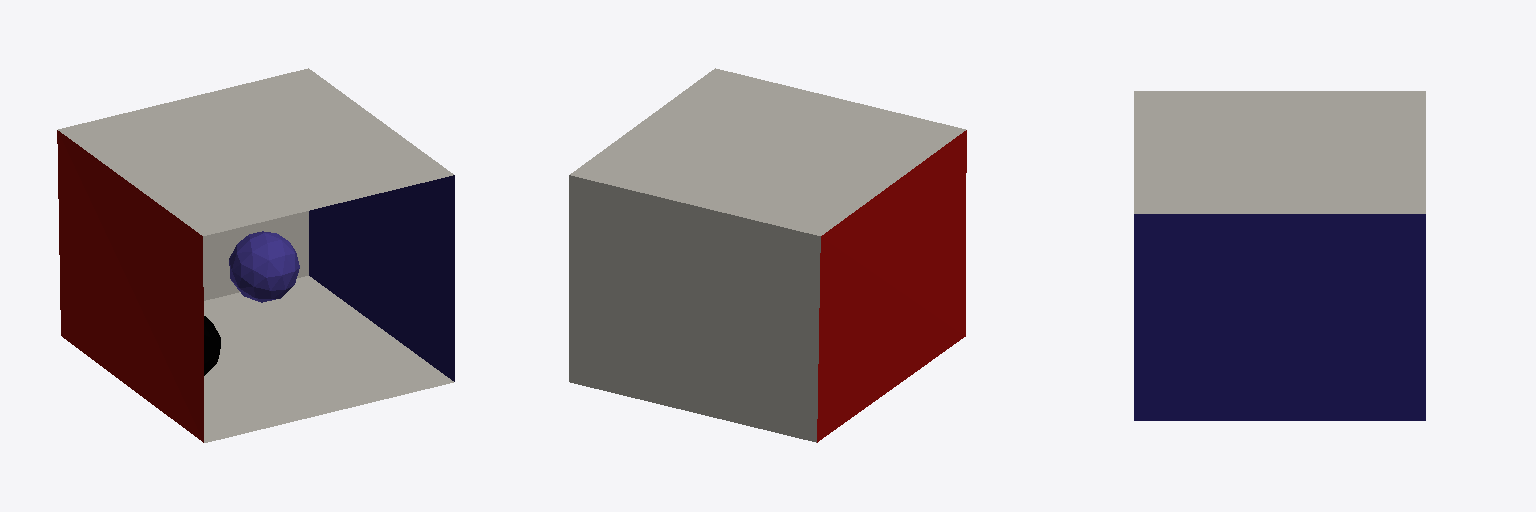
File: CornellBox-Sphere-456.obj
3 renders of one model, left to right at view 1: azimuth 30°, elevation 25°; view 2: azimuth 150°, elevation 25°; view 3: azimuth 270°, elevation 25°, orthographic.
Visible parts, largest first — view 1: ceiling, leftWall, floor, rightWall, leftSphere, backWall, rightSphere; view 2: backWall, ceiling, leftWall; view 3: rightWall, ceiling.
Boxes of the visible parts, x1,y1,x2,y2 form: ceiling: [58, 68, 453, 235]; leftWall: [57, 130, 203, 442]; floor: [204, 276, 453, 442]; rightWall: [309, 175, 454, 381]; leftSphere: [229, 231, 299, 302]; backWall: [203, 211, 308, 300]; rightSphere: [204, 316, 220, 375]; backWall: [569, 175, 820, 442]; ceiling: [570, 68, 965, 235]; leftWall: [817, 130, 966, 442]; rightWall: [1134, 214, 1425, 420]; ceiling: [1134, 91, 1425, 213].
Size of the model in its own units: 2.02 by 1.59 by 2.03.